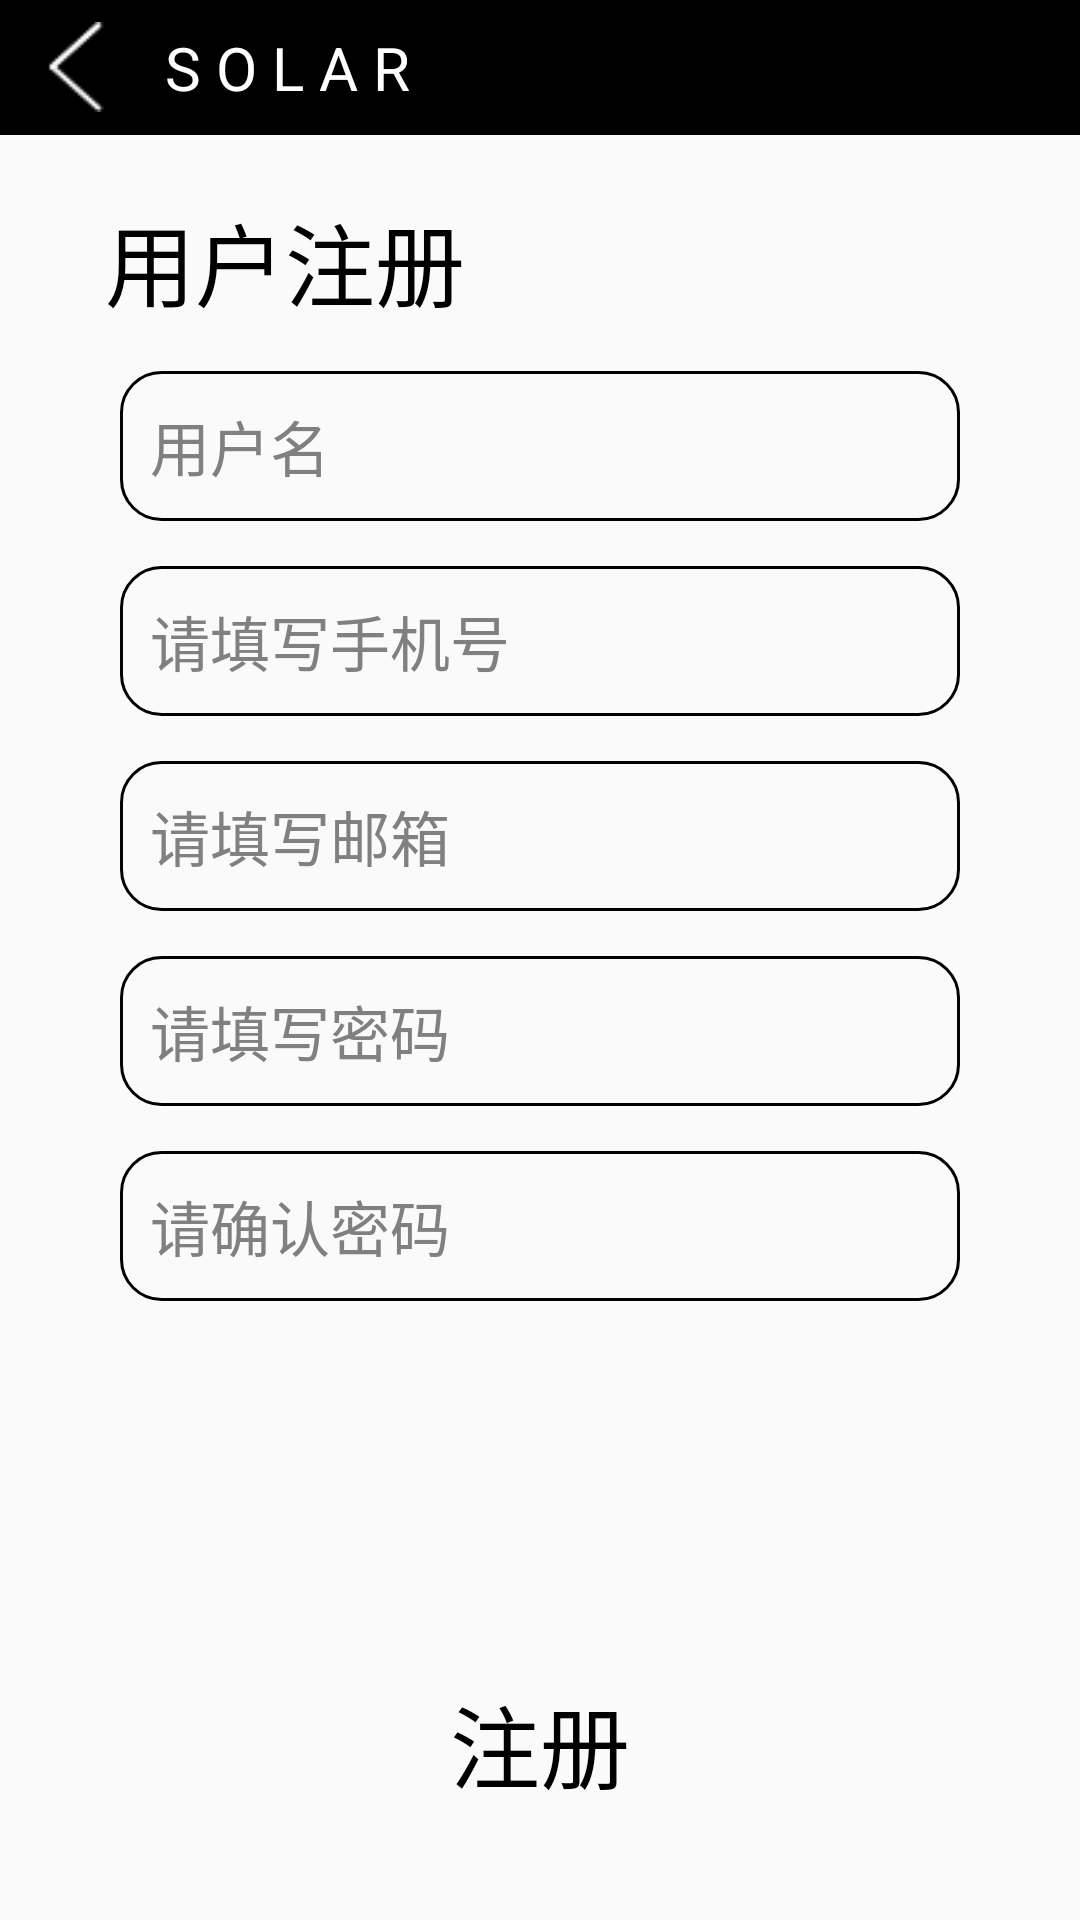

Locate icon controls on the screen. Image size 1080px×1920px, boxes as (x1, y1, x2, y2).
left: (49, 22, 103, 112)
